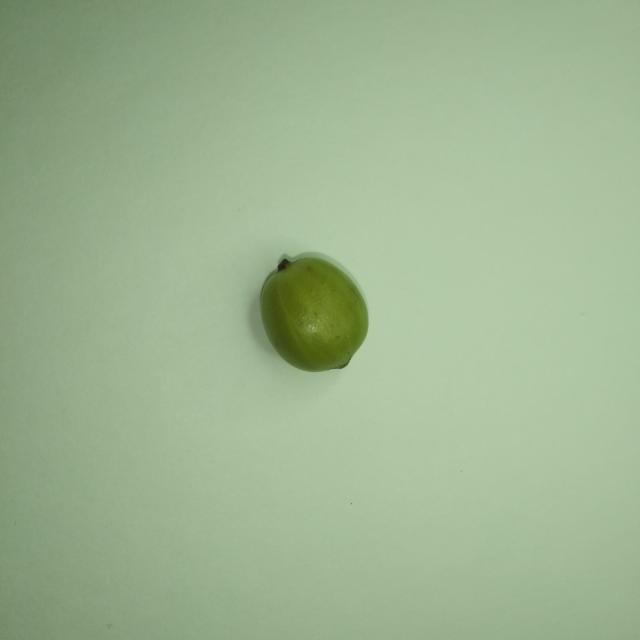Sano: (261, 254, 367, 371)
